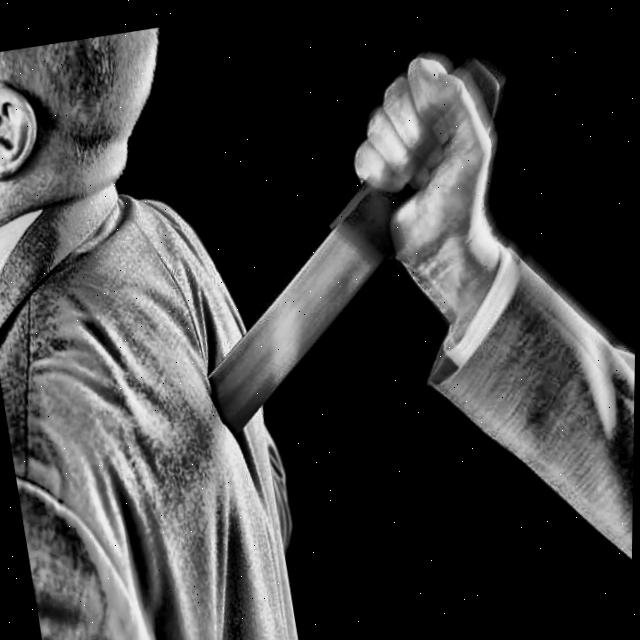pisau: (185, 47, 518, 448)
